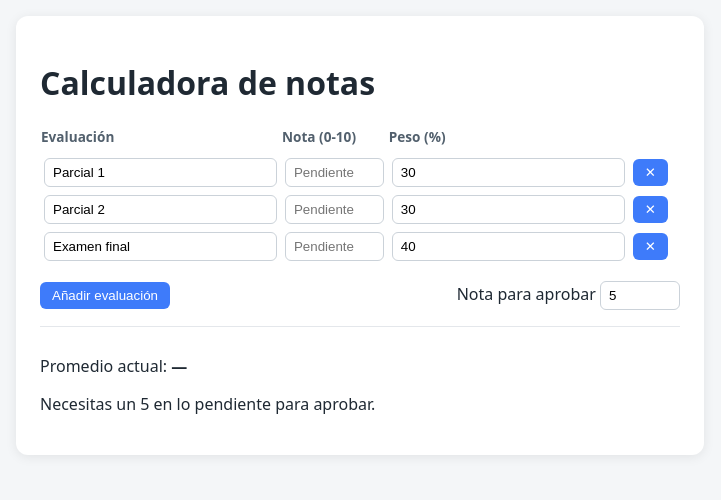
Test: App › muestra SUSPENDIDO cuando el promedio final no llega
Step 1. Type "2" into the 1st number field with placeholder "Pendiente" → (334, 172), box [285,158,384,187]
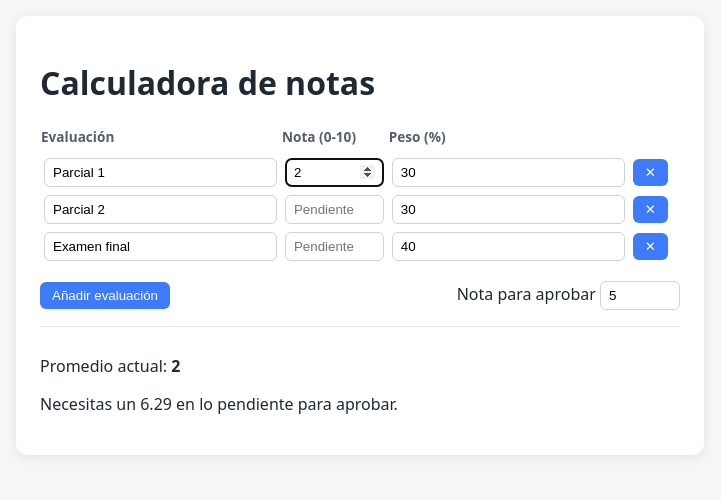
Step 2. Type "3" into the 1st number field with placeholder "Pendiente" → (334, 209), box [285,195,384,224]
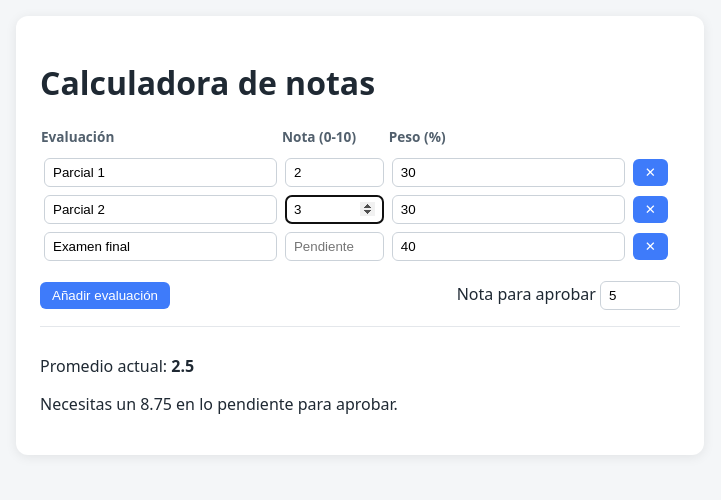
Step 3. Type "4" into the number field with placeholder "Pendiente" → (334, 246), box [285,232,384,261]
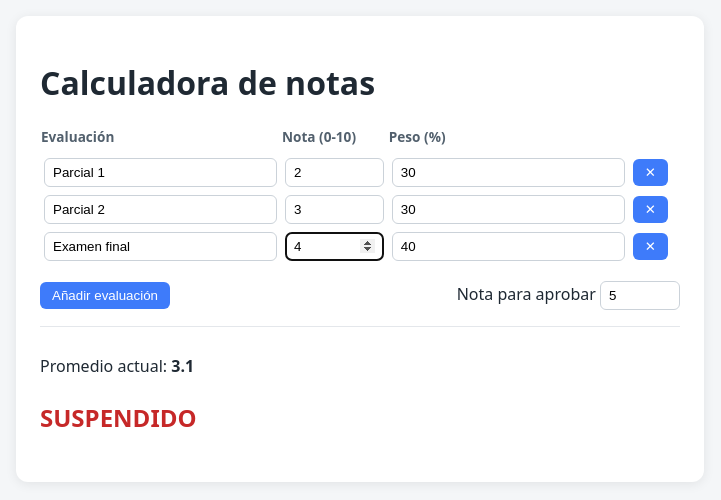
expect the text with test id "estado" reads "SUSPENDIDO": met, box [40,401,197,434]
